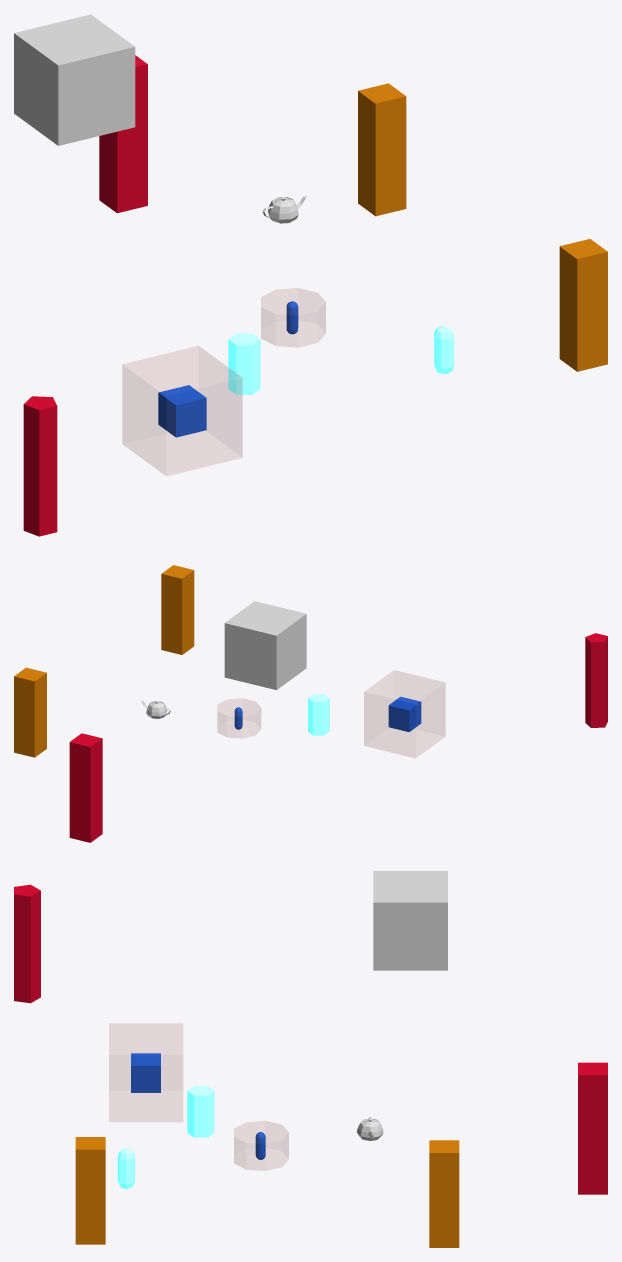
The model's file is level1.glb.
3 renders of one model, top to bottom at view 1: azimuth 30°, elevation 25°; view 2: azimuth 150°, elevation 25°; view 3: azimuth 270°, elevation 25°, orthographic. The views are drawn at different scales.
Visible parts, largest first — view 1: FallingCube, container_sensor, Pillar_geometry (×2), Cylinder, Cube.004, player_sensor, Container, GlowyThing, Health_Pickup_geometry, MagicTeapot; view 2: FallingCube, container_sensor, Pillar_geometry (×2), Cube.004, Cylinder, player_sensor, Container, GlowyThing; view 3: FallingCube, container_sensor, Pillar_geometry (×2), Cube.004, Cylinder, player_sensor, GlowyThing, Container, Health_Pickup_geometry.
Boxes of the visible parts, x1,y1,x2,y2 form: FallingCube: (14,14,135,145); container_sensor: (122,346,242,475); Pillar_geometry (×2): (358,83,607,371); Cylinder: (23,396,57,536); Cube.004: (99,55,147,213); player_sensor: (261,288,325,347); Container: (158,385,206,437); GlowyThing: (228,333,260,394); Health_Pickup_geometry: (434,326,454,373); MagicTeapot: (262,196,306,223); FallingCube: (224,601,306,689); container_sensor: (364,670,445,757); Pillar_geometry (×2): (14,565,194,757); Cube.004: (69,733,102,842); Cylinder: (585,633,607,727); player_sensor: (217,698,260,738); Container: (388,696,421,731); GlowyThing: (308,694,329,735); FallingCube: (373,871,447,970); container_sensor: (109,1023,182,1121); Pillar_geometry (×2): (75,1137,459,1247); Cube.004: (578,1062,607,1194); Cylinder: (14,884,40,1003); player_sensor: (234,1121,288,1170); GlowyThing: (187,1085,214,1137); Container: (131,1053,160,1092); Health_Pickup_geometry: (117,1148,135,1188).
Size of what is drawn, in the model's own units: 40.26 by 17.68 by 39.66.
